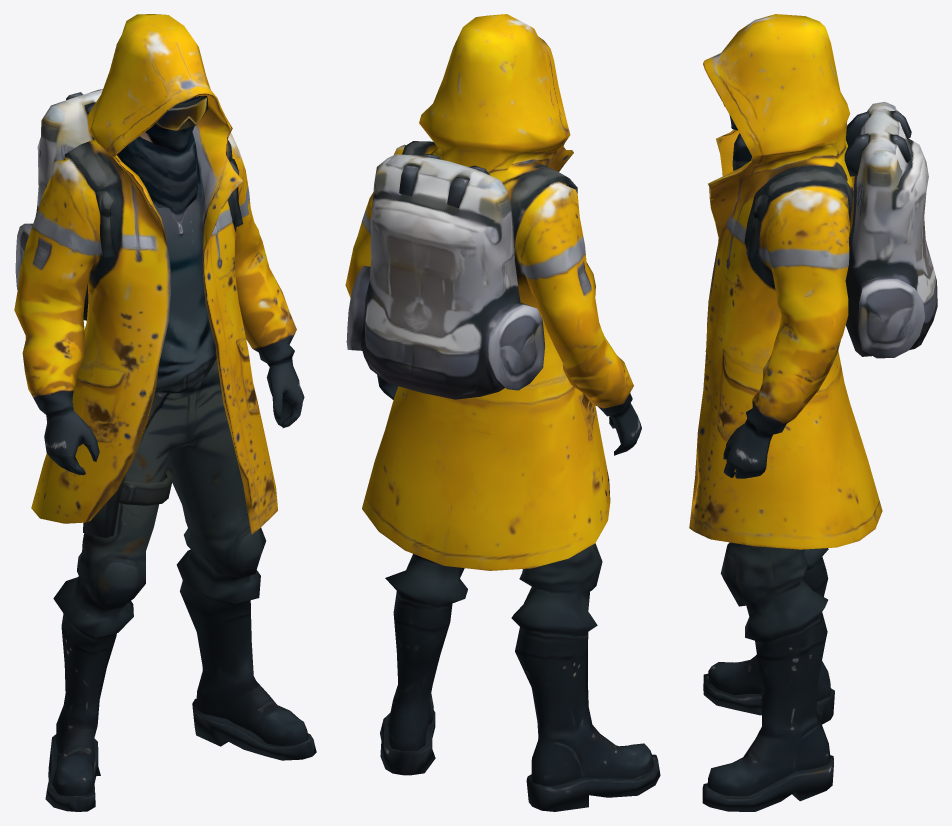
Rendered from op-viper.glb.
3 views of the same model, side by side, from view 1: azimuth 30°, elevation 25°; view 2: azimuth 150°, elevation 25°; view 3: azimuth 270°, elevation 25° (orthographic). The views are drawn at different scales.
Visible parts, largest first — view 1: geometry_0; view 2: geometry_0; view 3: geometry_0.
Boxes of the visible parts, bbox=[...] form: geometry_0: bbox=[14, 14, 316, 811]; geometry_0: bbox=[345, 14, 660, 811]; geometry_0: bbox=[689, 14, 937, 811].
Bounding box in the file's own units: 0.3752 × 1 × 0.3082.
1 material, 1 textured.
